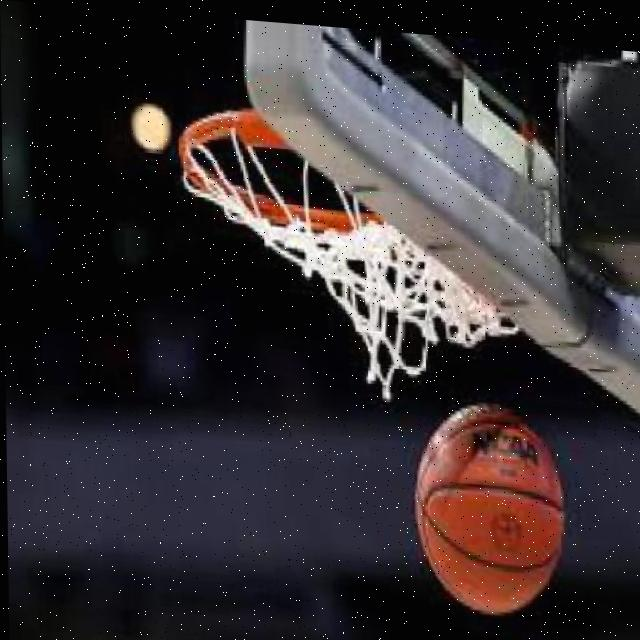basketball: (414, 393, 569, 621)
hoop: (177, 102, 524, 414)
